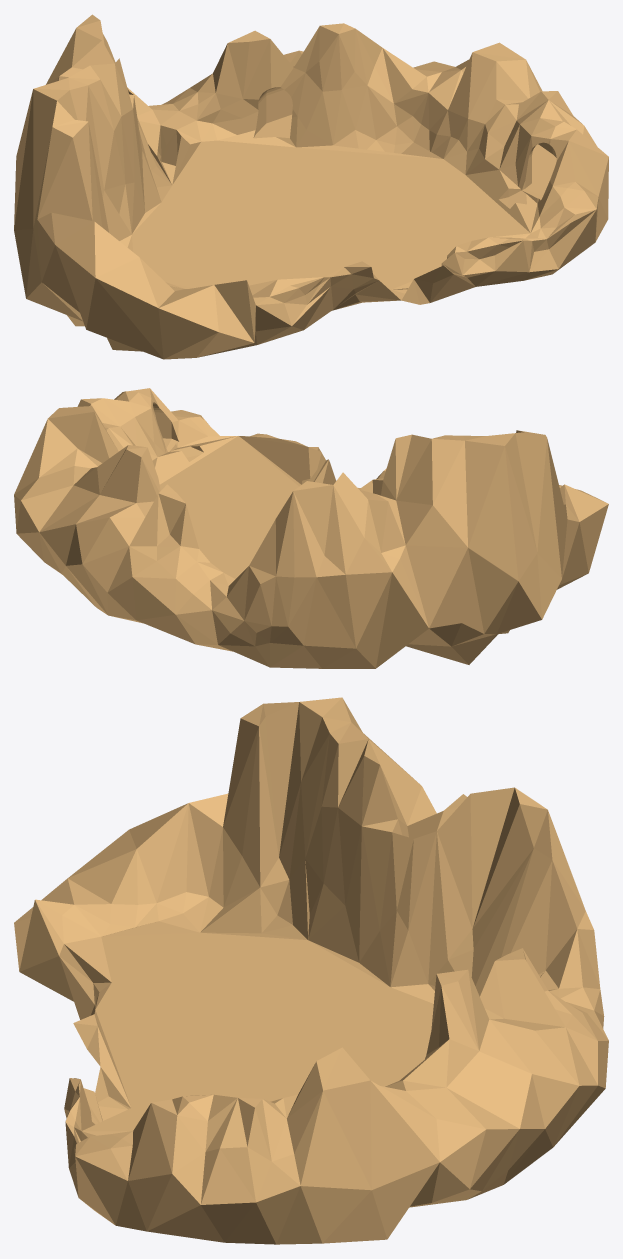
Rendered from tunnel_Mountain.fbx.
3 views of the same model, one above another, from view 1: azimuth 30°, elevation 25°; view 2: azimuth 150°, elevation 25°; view 3: azimuth 270°, elevation 25° (orthographic). The views are drawn at different scales.
Parts seen in each view (by area): view 1: mountain_river.001; view 2: mountain_river.001; view 3: mountain_river.001.
Part boxes in pixels (x1,y1,x2,y2): mountain_river.001: (14, 14, 608, 359); mountain_river.001: (14, 388, 608, 668); mountain_river.001: (14, 697, 608, 1244).
Bounding box in the file's own units: 23.01 × 9.84 × 17.57.
